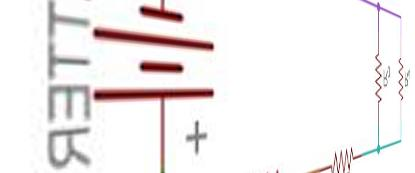Battery: (93, 7, 250, 151)
